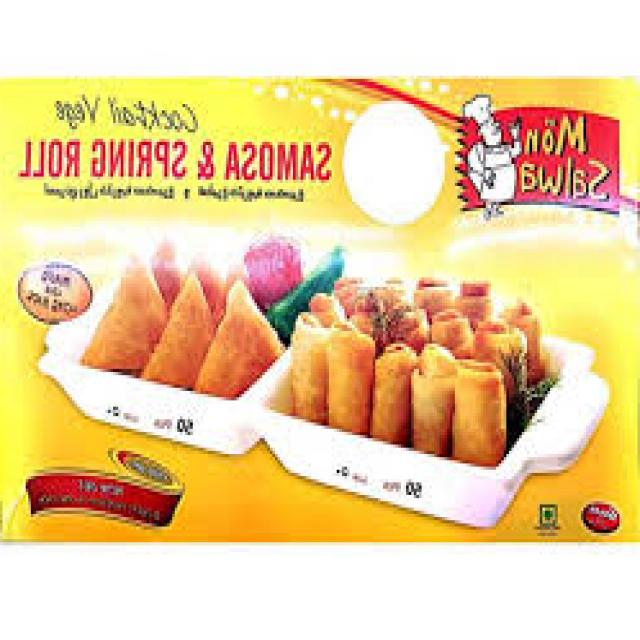Samosa: (82, 240, 283, 397)
Spring Rolls: (293, 265, 563, 444)
